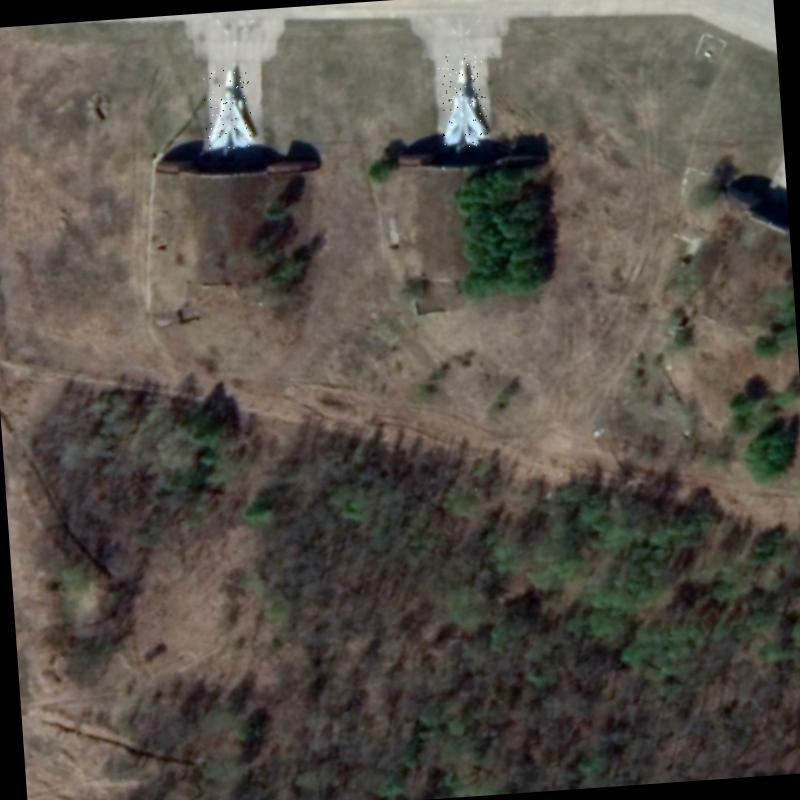A20: (435, 52, 489, 148), (201, 66, 255, 151)
